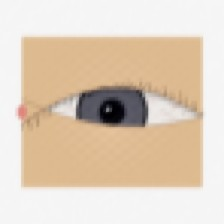pterygium_lesion: (22, 90, 75, 134)
